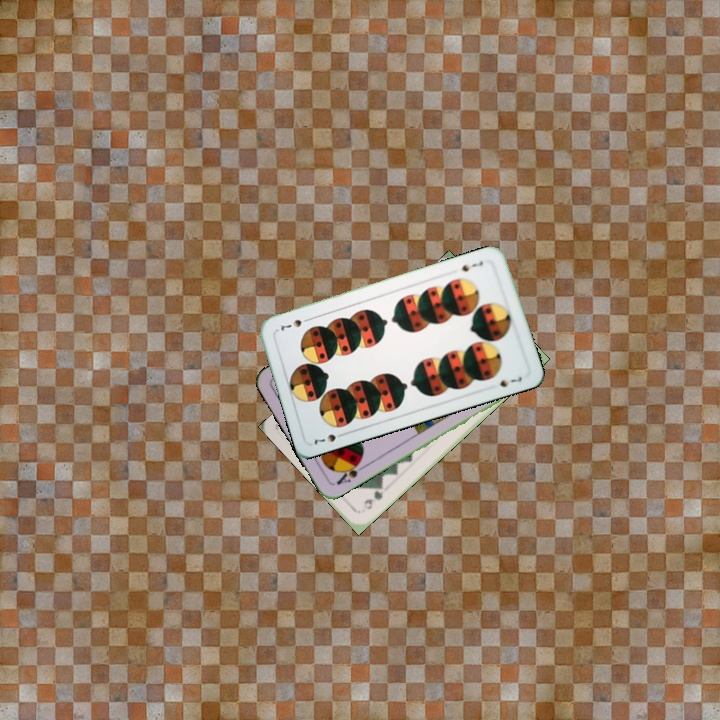G9: (359, 486, 386, 512)
S7: (310, 429, 349, 448), (458, 257, 486, 274)
SA: (332, 456, 368, 487)
